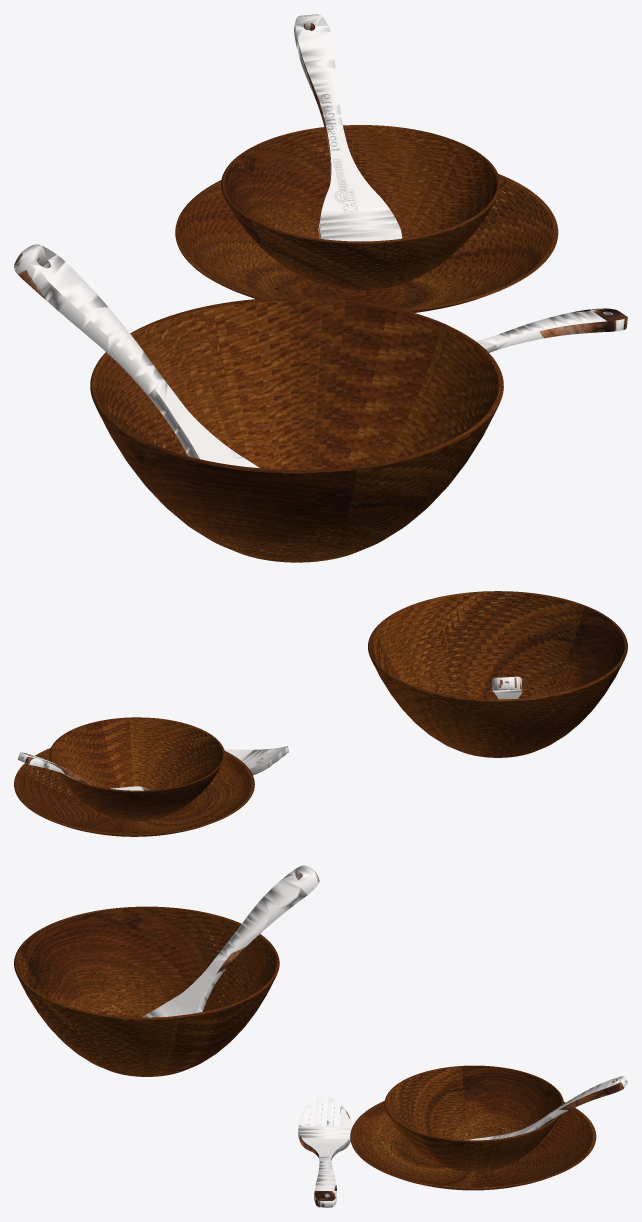
Rendered from wooden-salad-bowl-and-cutlery-scene.glb.
The picture shows the model from 3 angles, top to bottom: view 1: azimuth 30°, elevation 25°; view 2: azimuth 150°, elevation 25°; view 3: azimuth 270°, elevation 25°; orthographic projection. The views are drawn at different scales.
Visible parts, largest first — view 1: Groupe#54 (×2), Groupe#1, Grouper 8#8, Grouper 8#10, Grouper 8#12; view 2: Groupe#54 (×2), Groupe#1, Grouper 8#12, Grouper 8#10, Grouper 8#8; view 3: Groupe#54 (×2), Groupe#1, Grouper 8#8, Grouper 8#12, Grouper 8#10.
Part boxes in pixels (<box>): Groupe#54 (×2): <box>90,125,503,562</box>; Groupe#1: <box>175,174,558,312</box>; Grouper 8#8: <box>14,244,259,468</box>; Grouper 8#10: <box>294,14,402,241</box>; Grouper 8#12: <box>476,308,627,352</box>; Groupe#54 (×2): <box>49,591,627,821</box>; Groupe#1: <box>14,748,254,836</box>; Grouper 8#12: <box>224,746,288,775</box>; Grouper 8#10: <box>17,752,149,790</box>; Grouper 8#8: <box>492,676,522,699</box>; Groupe#54 (×2): <box>14,906,563,1171</box>; Groupe#1: <box>350,1101,596,1190</box>; Grouper 8#8: <box>142,865,319,1017</box>; Grouper 8#12: <box>298,1097,352,1207</box>; Grouper 8#10: <box>465,1076,627,1140</box>.
Bounding box in the file's own units: 0.3786 × 0.1258 × 0.4685.
Materials: 4 (3 with a texture image).
